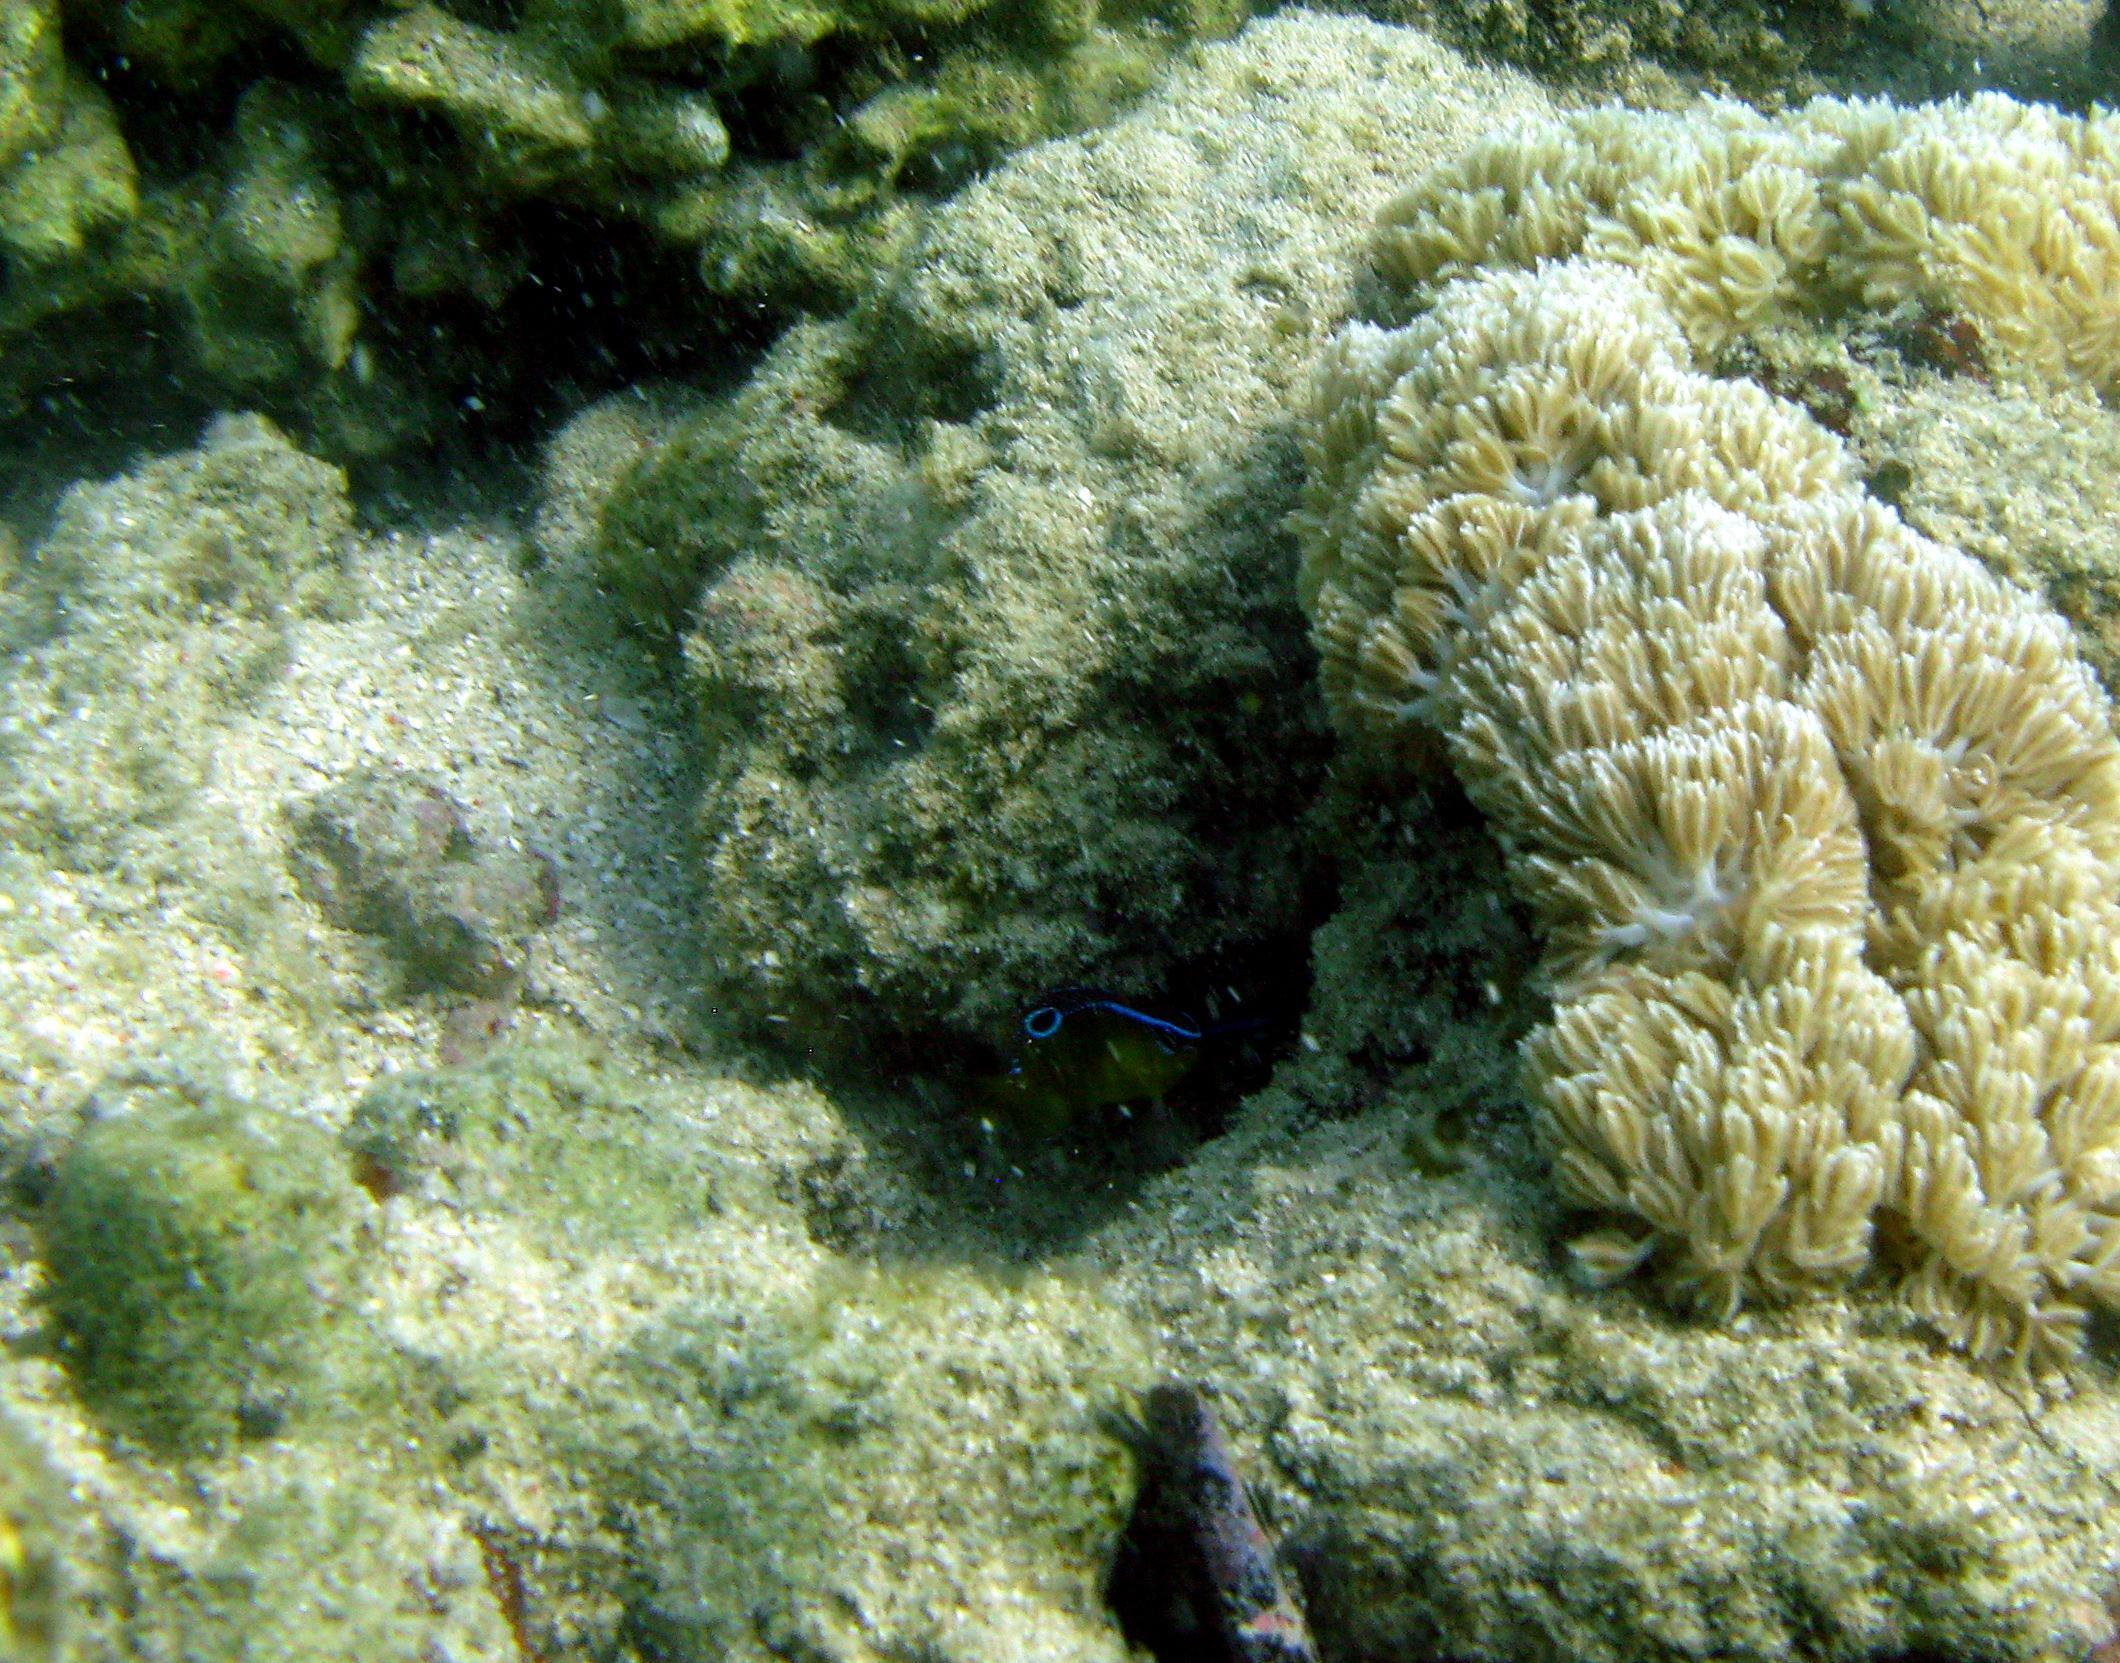Fish: (857, 940, 1272, 1188)
